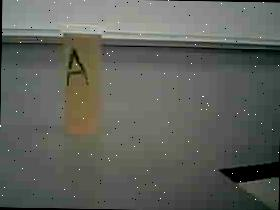Bottle A: (51, 15, 120, 152)
